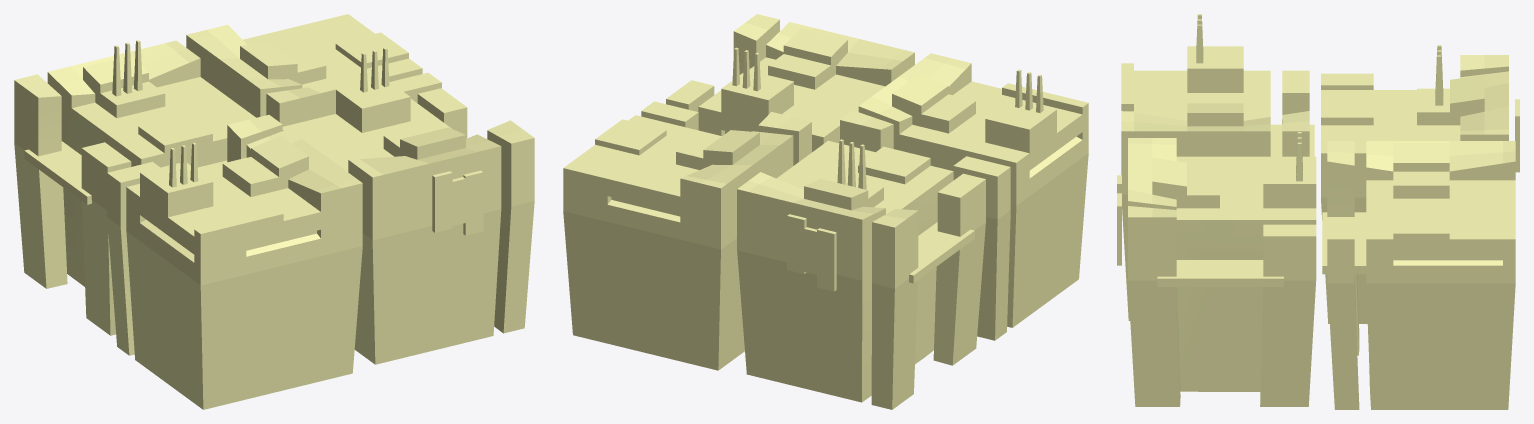
File: MangaKa Props - F_S_ScifiBuilding_27.glb
3 renders of one model, left to right at view 1: azimuth 30°, elevation 25°; view 2: azimuth 150°, elevation 25°; view 3: azimuth 270°, elevation 25°, orthographic. The views are drawn at different scales.
Visible parts, largest first — view 1: F_S_ScifiBuilding_27_blueScreen, F_S_ScifiBuilding_27002_blueScreen, F_S_ScifiBuilding_27004_blueScreen, F_S_ScifiBuilding_27001_blueScreen; view 2: F_S_ScifiBuilding_27_blueScreen, F_S_ScifiBuilding_27002_blueScreen, F_S_ScifiBuilding_27004_blueScreen, F_S_ScifiBuilding_27001_blueScreen; view 3: F_S_ScifiBuilding_27_blueScreen, F_S_ScifiBuilding_27002_blueScreen, F_S_ScifiBuilding_27004_blueScreen, F_S_ScifiBuilding_27001_blueScreen, F_S_ScifiBuilding_27003_blueScreen.
Part boxes in pixels (box(x1,y1,x2,y2)): F_S_ScifiBuilding_27_blueScreen: box(14, 14, 501, 409); F_S_ScifiBuilding_27002_blueScreen: box(81, 78, 534, 335); F_S_ScifiBuilding_27004_blueScreen: box(24, 40, 483, 355); F_S_ScifiBuilding_27001_blueScreen: box(335, 32, 408, 68); F_S_ScifiBuilding_27_blueScreen: box(563, 22, 1088, 409); F_S_ScifiBuilding_27002_blueScreen: box(666, 14, 1082, 365); F_S_ScifiBuilding_27004_blueScreen: box(641, 47, 1043, 340); F_S_ScifiBuilding_27001_blueScreen: box(595, 119, 666, 155); F_S_ScifiBuilding_27_blueScreen: box(1121, 55, 1515, 409); F_S_ScifiBuilding_27002_blueScreen: box(1128, 46, 1502, 406); F_S_ScifiBuilding_27004_blueScreen: box(1117, 14, 1519, 409); F_S_ScifiBuilding_27001_blueScreen: box(1393, 211, 1449, 239); F_S_ScifiBuilding_27003_blueScreen: box(1393, 257, 1502, 260).
Bounding box in the file's own units: 10.93 × 7.11 × 11.03.
